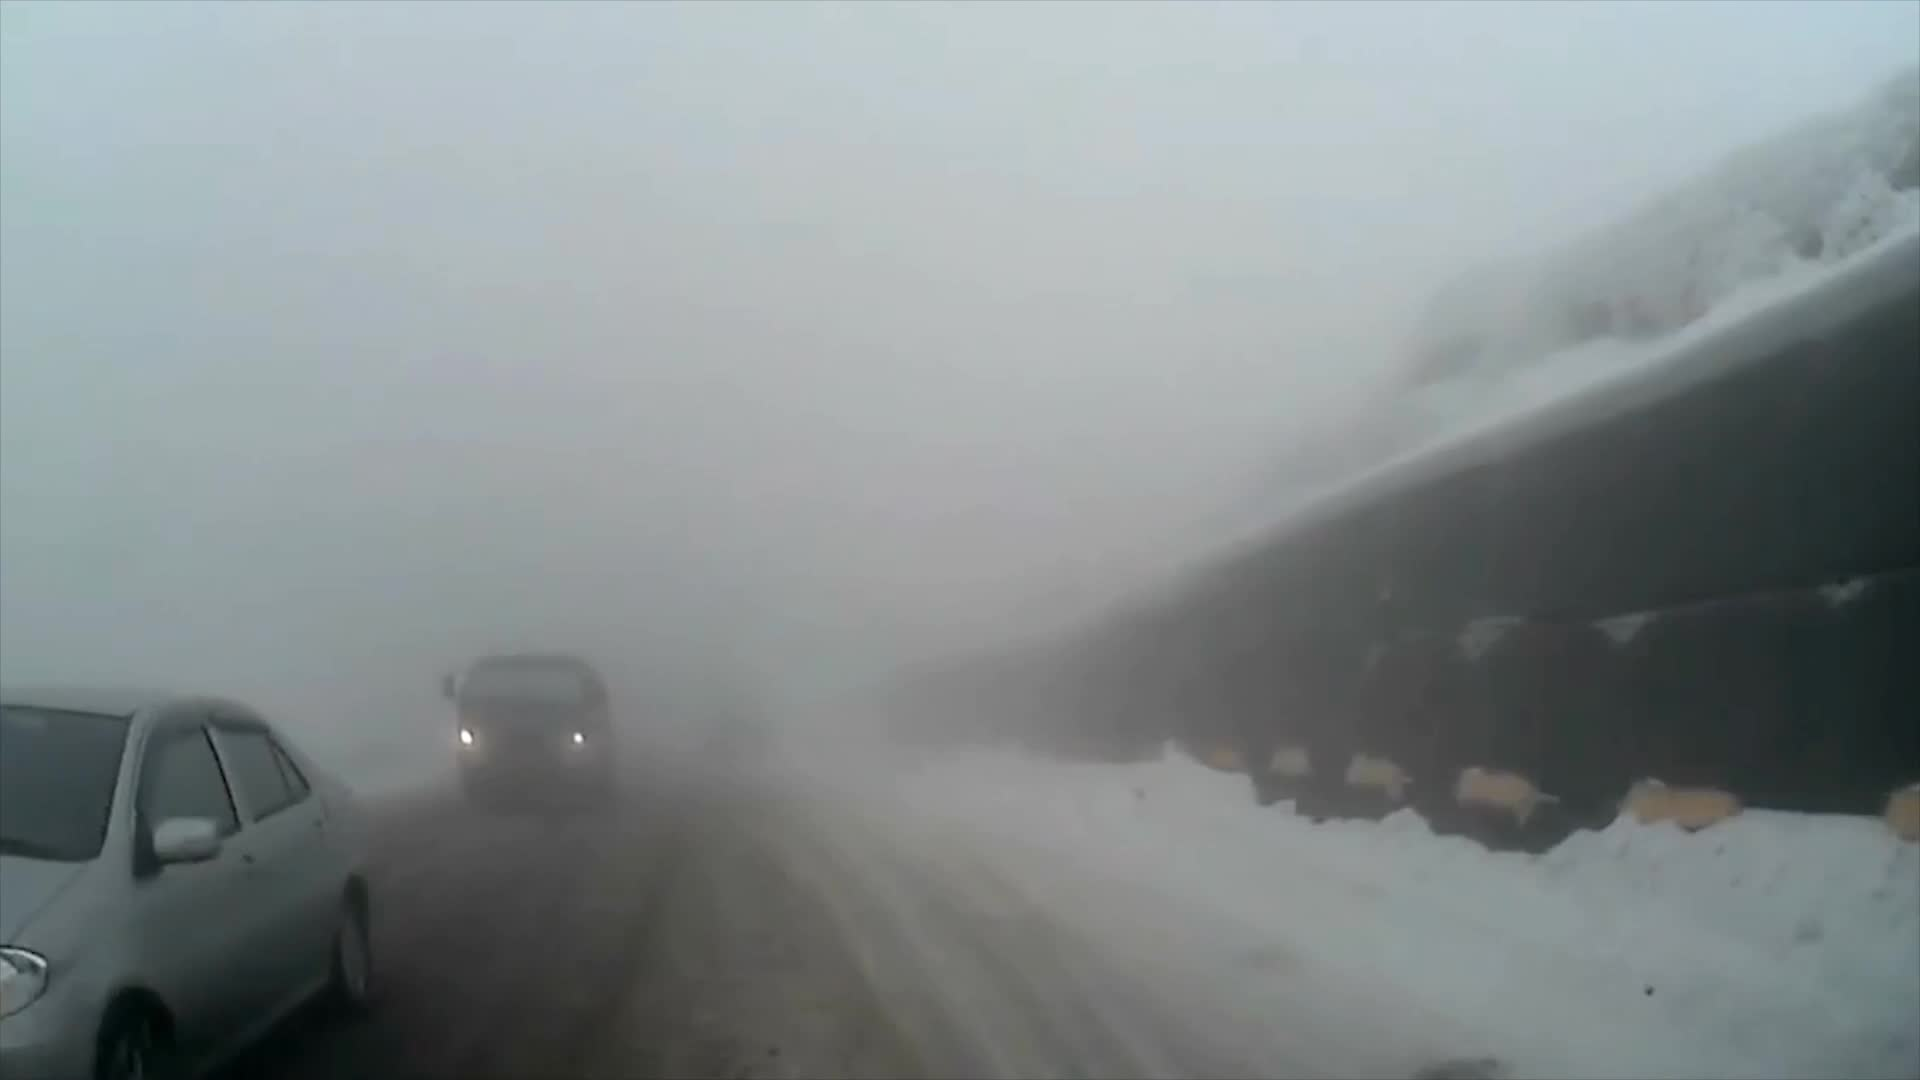vehicle: (0, 678, 376, 1080), (436, 646, 618, 804)
